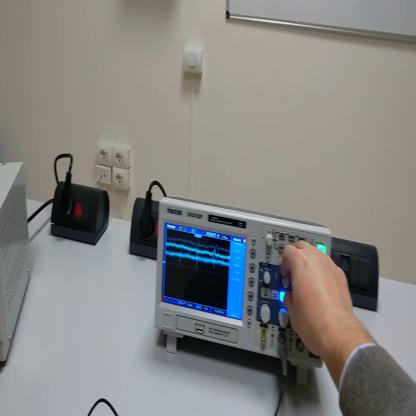hand: (281, 237, 356, 356)
oscilloscope: (153, 198, 329, 387)
power supply: (2, 162, 33, 364)
socket: (50, 180, 110, 247), (131, 197, 160, 263)
